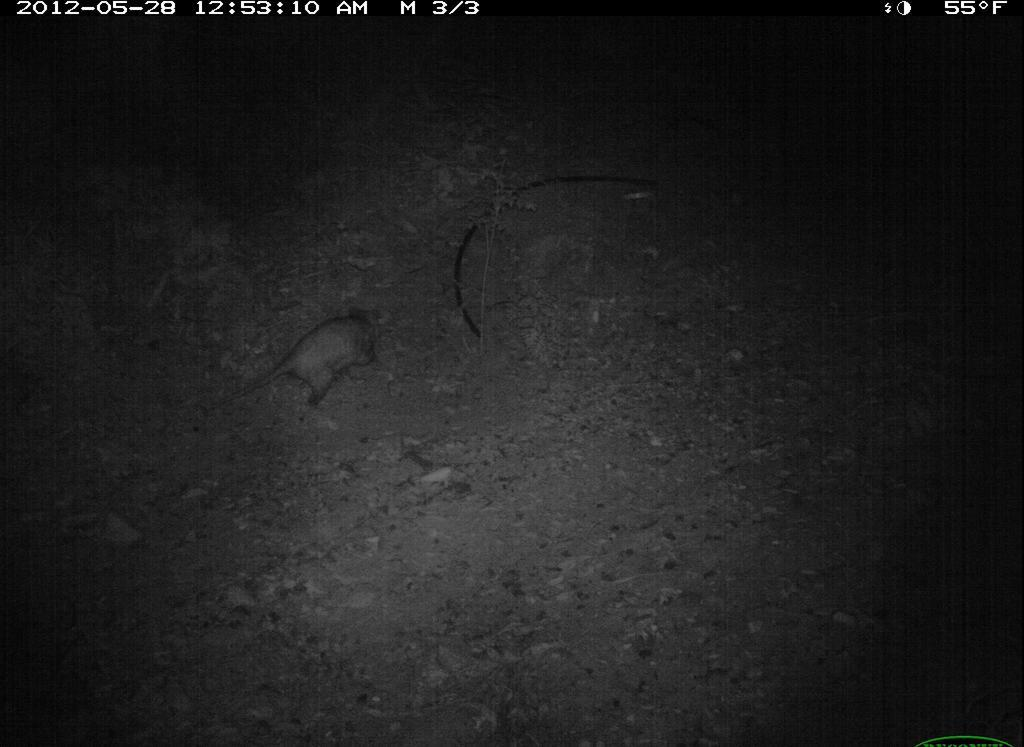opossum: (208, 300, 395, 415)
